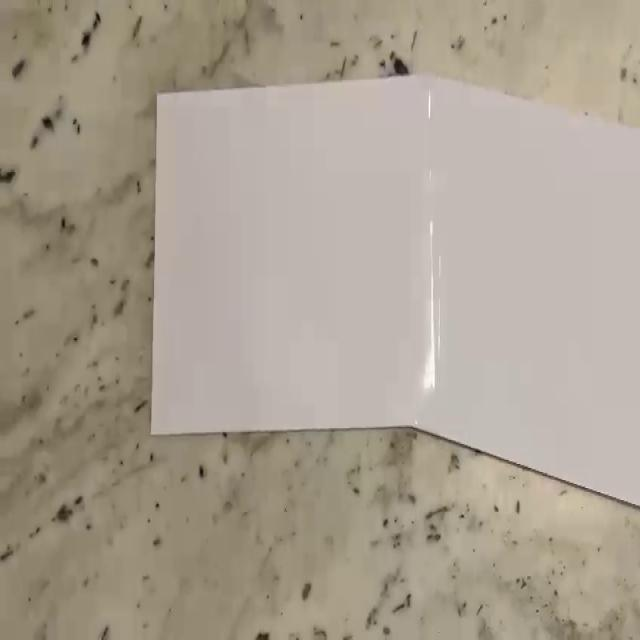road: (149, 75, 640, 507)
